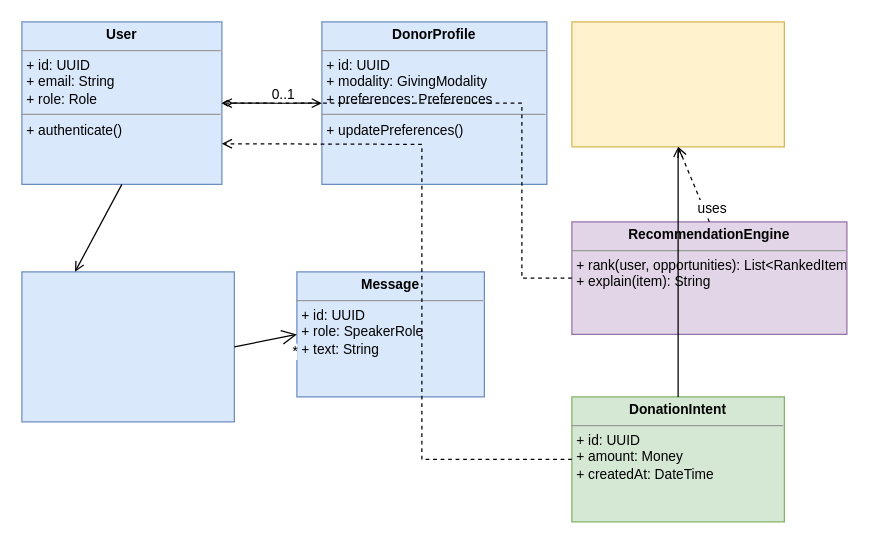
This 876x544 diagram has some shape labels left out. The shapes that lost their labels are listed below. From the top down, each one's box as (x1, y1, x2, y2) in pixels, then its label:
(571, 21, 784, 147): Opportunity + id: UUID + title: String + metrics: ImpactMetrics
(21, 271, 234, 422): ChatSession + id: UUID + startedAt: DateTime + addMessage(m: Message)
